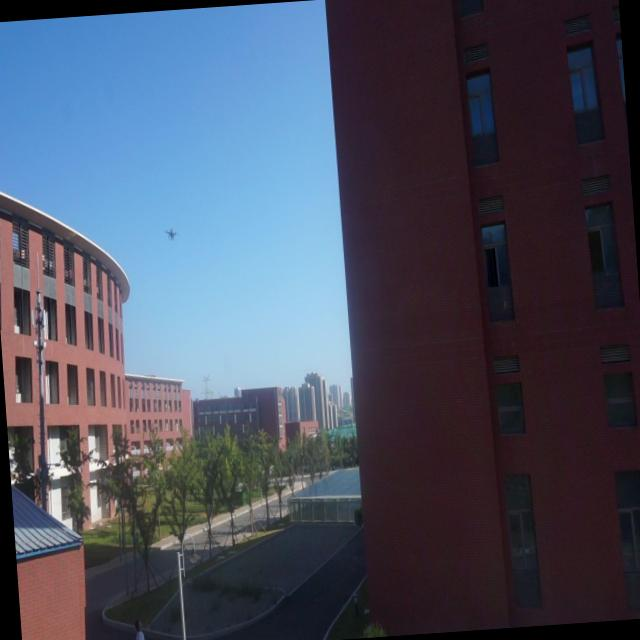drone: (161, 222, 180, 244)
